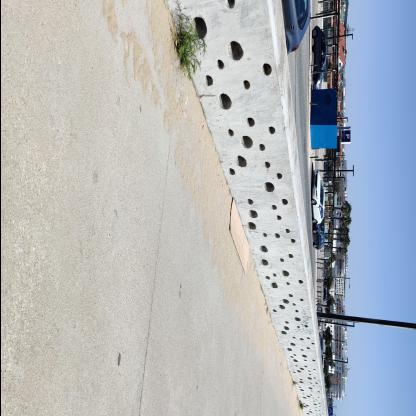karton: (228, 197, 249, 277)
